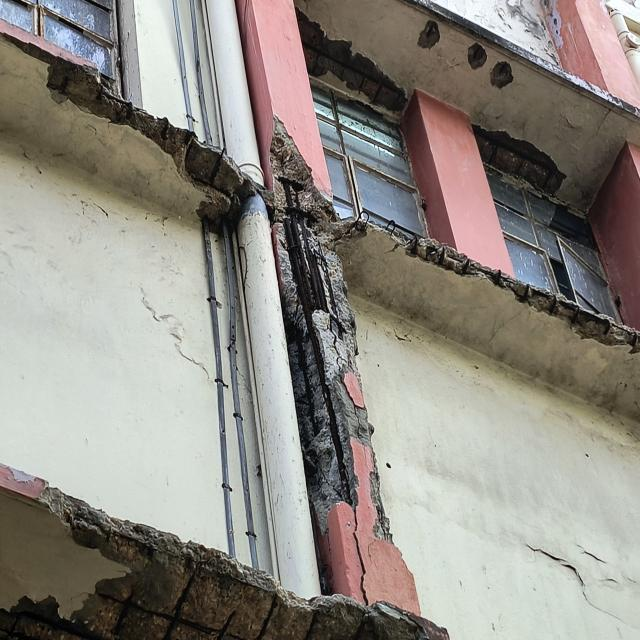Crack: (523, 538, 634, 626), (351, 510, 370, 605)
Scaling: (414, 0, 640, 116), (137, 285, 211, 383)
Spalling: (0, 489, 448, 640), (265, 117, 392, 551), (0, 30, 257, 231), (334, 210, 640, 354), (296, 8, 407, 113), (472, 124, 566, 196), (417, 20, 440, 49), (490, 61, 513, 89), (468, 42, 487, 70)
pollution -moisture induced blackening: (405, 0, 640, 119)
